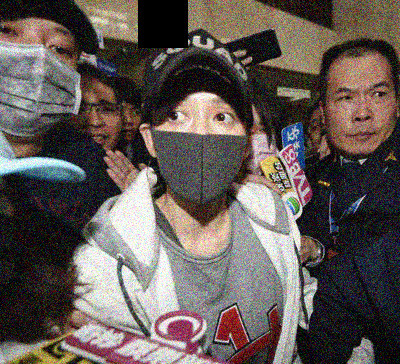with_mask: (151, 89, 247, 205), (1, 20, 81, 136), (243, 120, 283, 179)
without_mask: (325, 77, 397, 156), (68, 95, 124, 157), (116, 104, 140, 144)
